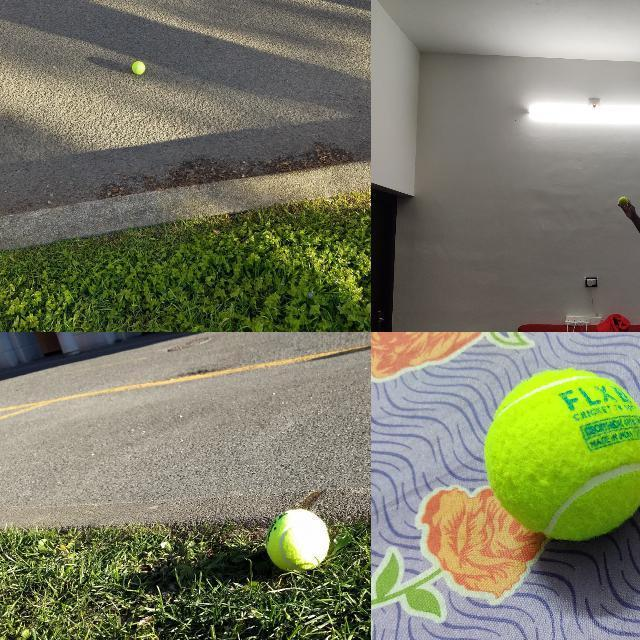tennis-ball: (483, 368, 639, 540), (265, 508, 330, 573), (131, 60, 145, 74), (618, 196, 628, 206)
